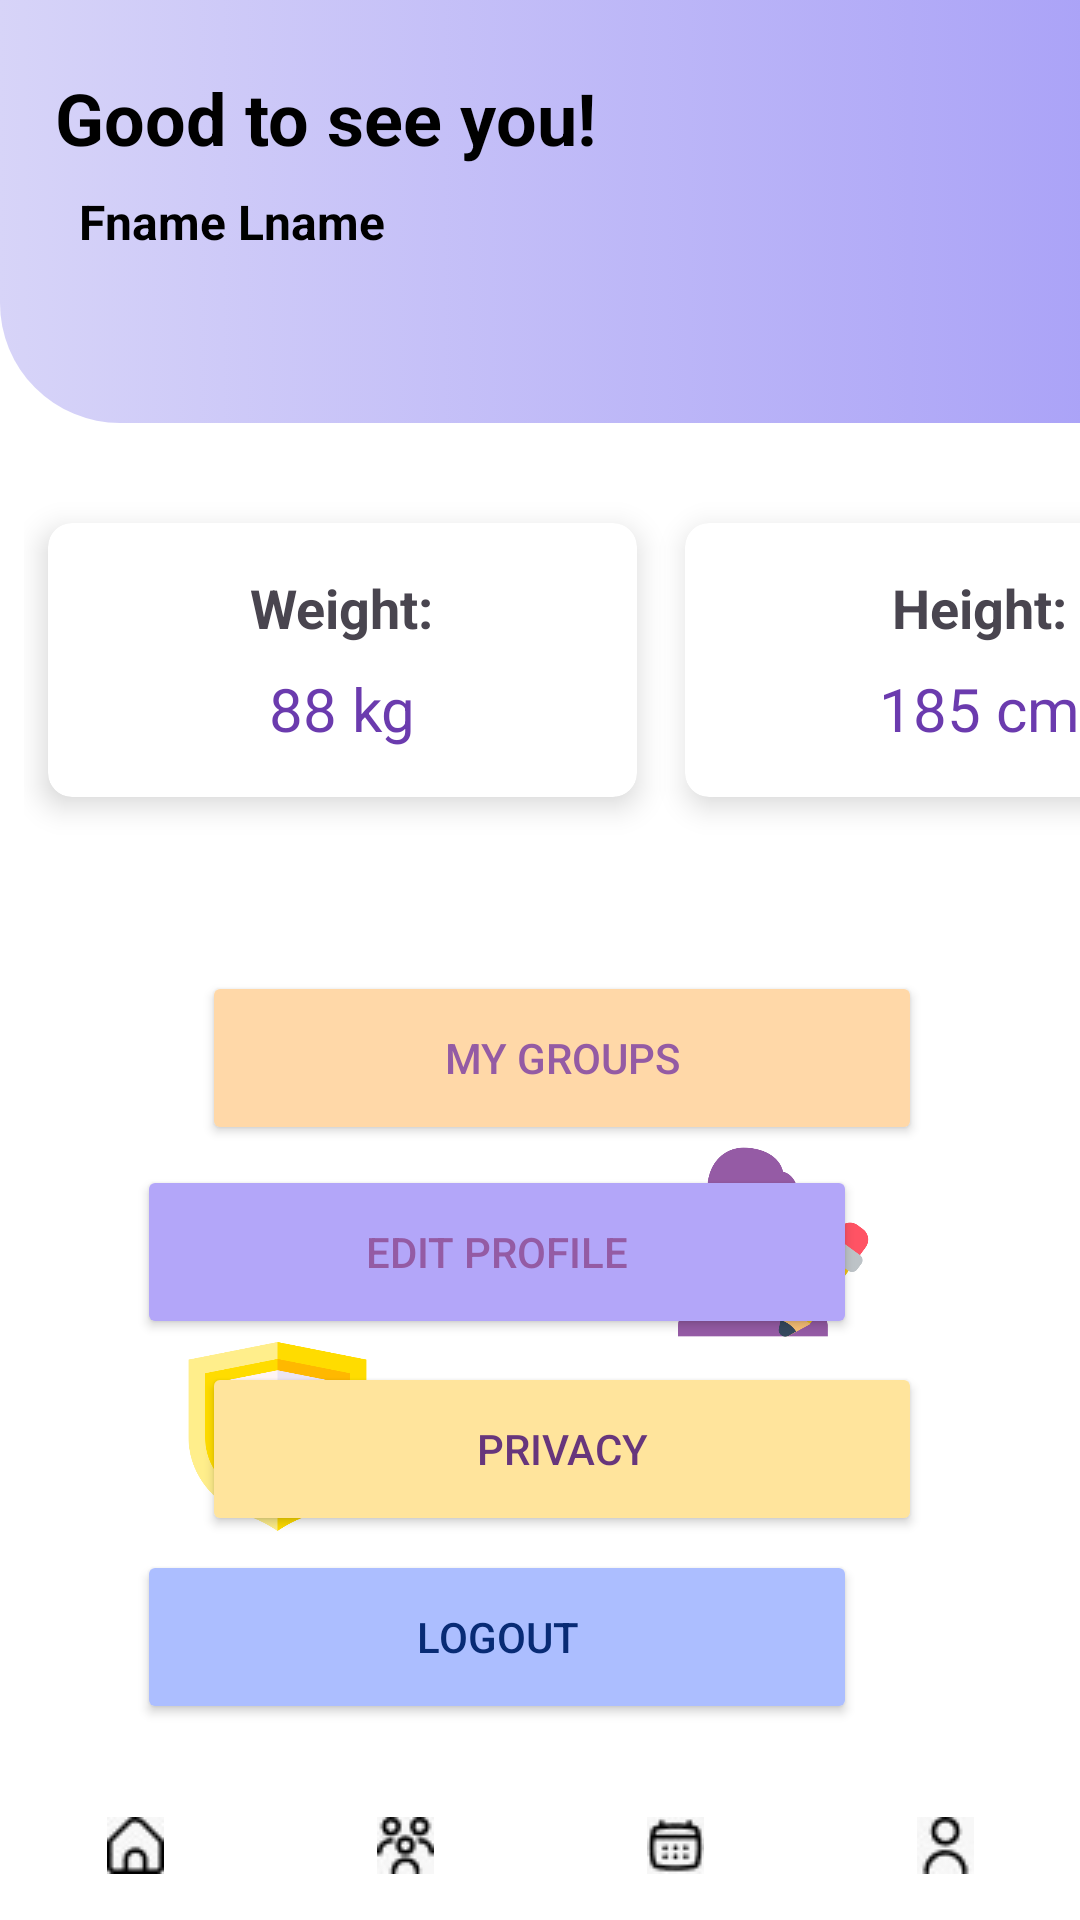

Where to tap for icons on this 1080px x 1920px app screen, as point (x, y):
calendar state: point (675, 1845)
groups state: point (405, 1845)
home state: point (135, 1845)
profile state: point (945, 1845)
